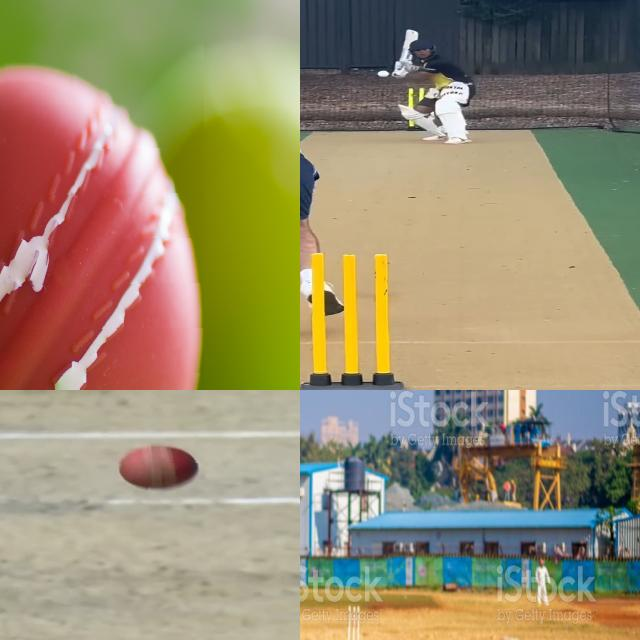Cricket ball: (0, 39, 204, 390), (113, 441, 205, 494), (376, 69, 391, 79)
Stumps: (300, 251, 407, 390), (347, 602, 360, 640)
